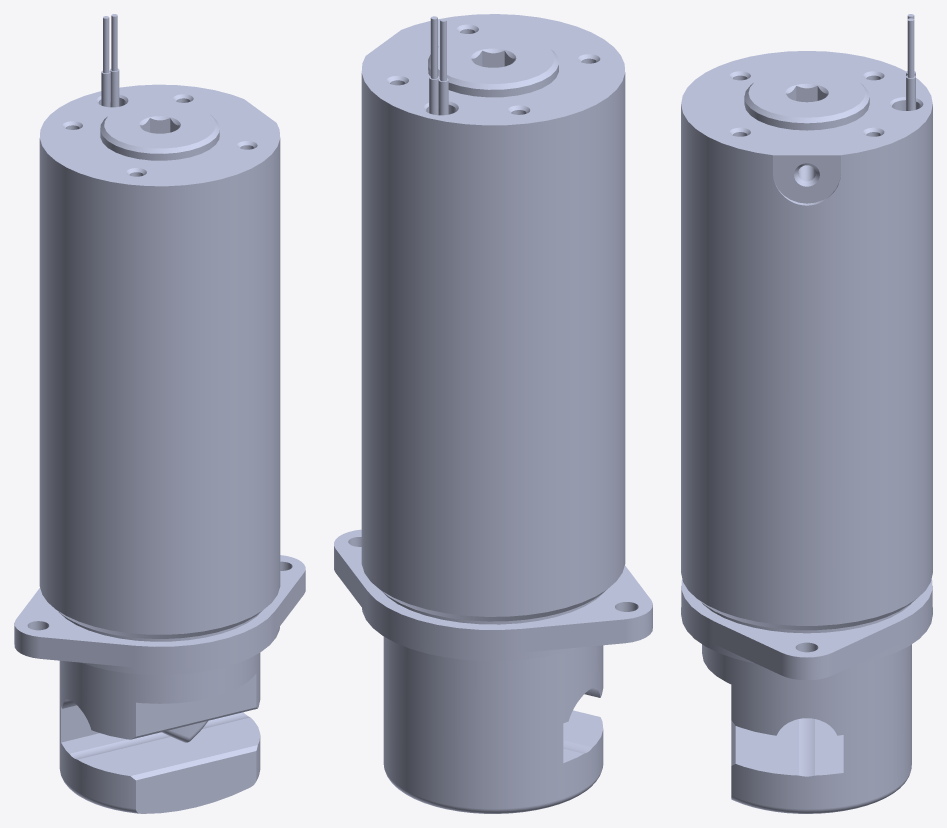
The model's file is npv7-1cp-06-24.glb.
The picture shows the model from 3 angles, left to right: view 1: azimuth 30°, elevation 25°; view 2: azimuth 150°, elevation 25°; view 3: azimuth 270°, elevation 25°; orthographic projection. The views are drawn at different scales.
Parts seen in each view (by area): view 1: npv7-1cp-06-24; view 2: npv7-1cp-06-24; view 3: npv7-1cp-06-24.
Boxes of the visible parts, x1,y1,x2,y2 form: npv7-1cp-06-24: [14, 14, 305, 813]; npv7-1cp-06-24: [334, 14, 652, 813]; npv7-1cp-06-24: [681, 14, 932, 813].
Size of the model in its own units: 0.0516 by 0.1286 by 0.0381.
